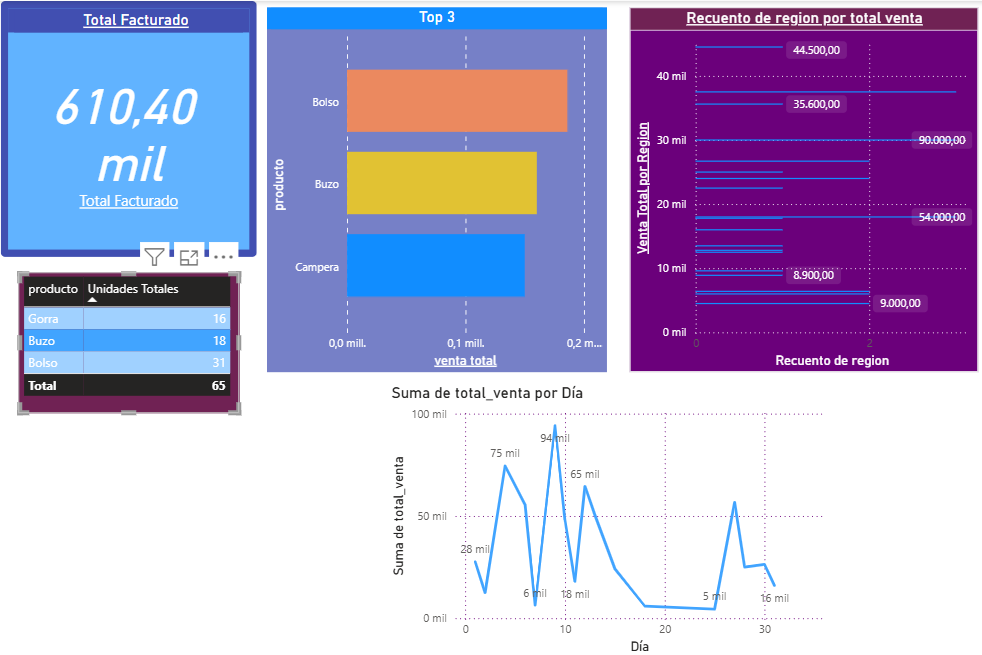

What the dashboard file says about the page in this screenshot:
{"tool":"powerbi","page":{"name":"Página 1","canvas":[1280,720],"ordinal":0},"visuals":[{"type":"card","title":"Total Facturado","fields":{"Values":["registro_ventas.Total Facturado"]},"box":[10,0,280,280],"z":0},{"type":"tableEx","fields":{"Values":["registro_ventas.producto","registro_ventas.Unidades Totales"]},"box":[28.7,296.8,242.1,154.6],"z":1},{"type":"clusteredBarChart","title":" Top 3","fields":{"Category":["registro_ventas.producto"],"Y":["Sum(registro_ventas.total_venta)"]},"box":[300.9,6.8,372,399.4],"z":2},{"type":"clusteredBarChart","title":"Recuento de region por total venta","fields":{"Y":["CountNonNull(registro_ventas.region)"],"Category":["registro_ventas.total_venta"]},"box":[697.6,6.8,381.6,399.4],"z":3},{"type":"lineChart","fields":{"Category":["registro_ventas.fecha.Variación.Jerarquía de fechas.Día"],"Y":["Sum(registro_ventas.total_venta)"]},"box":[432.2,418.6,482.8,300.9],"z":4}]}

Visuals, with their boxes on the page's 1280x720 design canvas (x1, y1, x2, y2). These are canvas units, not pixel positions in the 982x655 screenshot, which may show the page scaled, cropped or inside an application window:
"Total Facturado" card: x1=10 y1=0 x2=290 y2=280
tableEx - registro_ventas.producto x registro_ventas.Unidades Totales: x1=29 y1=297 x2=271 y2=451
" Top 3" clusteredBarChart: x1=301 y1=7 x2=673 y2=406
"Recuento de region por total venta" clusteredBarChart: x1=698 y1=7 x2=1079 y2=406
lineChart - registro_ventas.fecha.Variación.Jerarquía de fechas.Día x Sum(registro_ventas.total_venta): x1=432 y1=419 x2=915 y2=720
